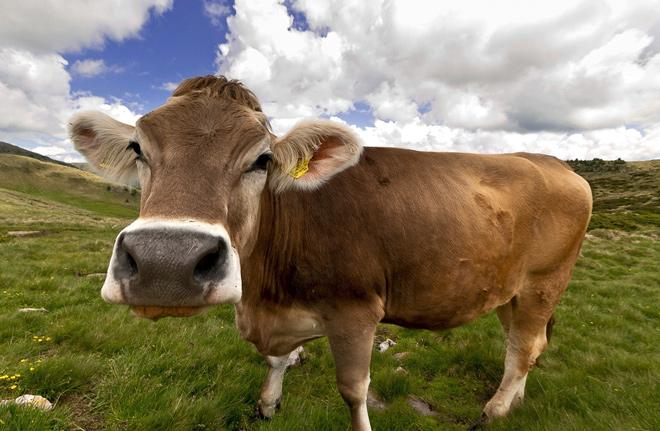muzzles: (97, 219, 242, 322)
